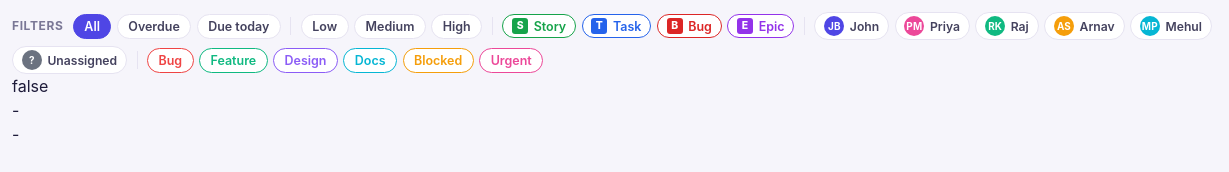
FilterBar › toggles overdue
Click the button "Overdue": (154, 26) left=117, top=14, right=191, bottom=39
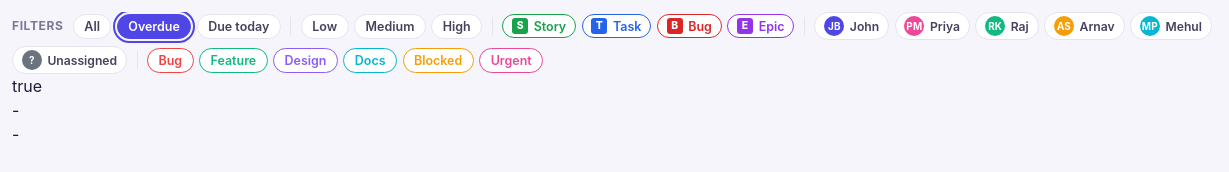
Expected: the text with test id "overdue" reads "true", left=12, top=76, right=42, bottom=96
